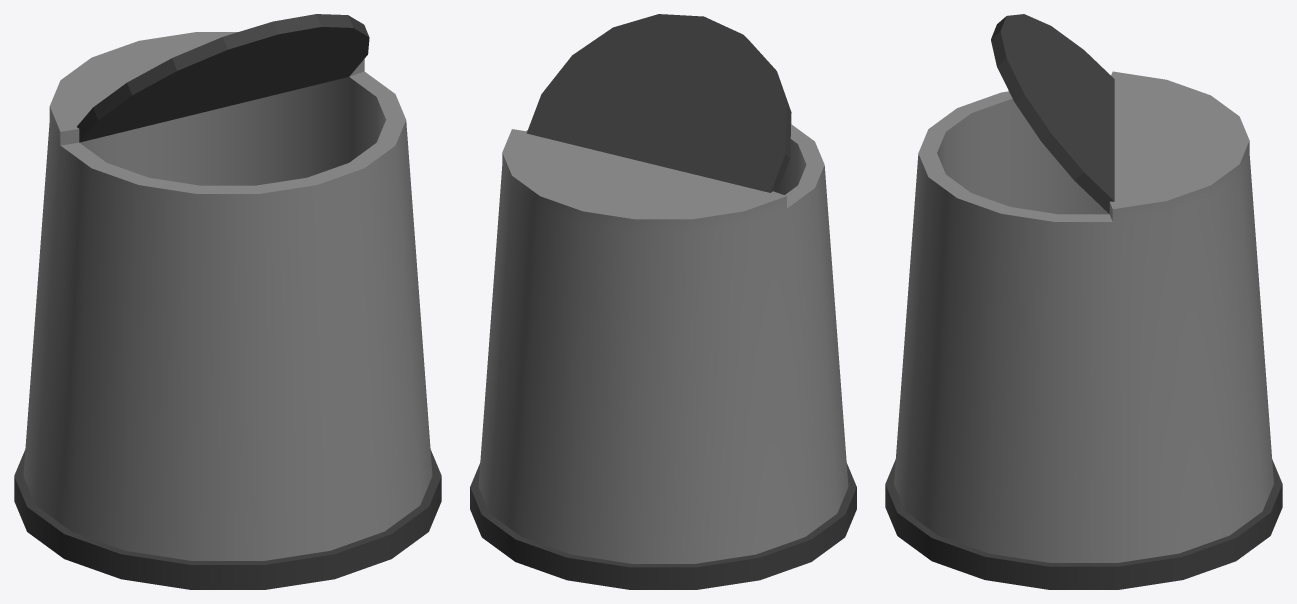
File: Dustbin.fbx
3 views of the same model, side by side, from view 1: azimuth 30°, elevation 25°; view 2: azimuth 150°, elevation 25°; view 3: azimuth 270°, elevation 25° (orthographic). The views are drawn at different scales.
Visible parts, largest first — view 1: Dustbin; view 2: Dustbin; view 3: Dustbin.
Part boxes in pixels (bbox=[...]): Dustbin: bbox=[14, 14, 441, 589]; Dustbin: bbox=[470, 14, 856, 589]; Dustbin: bbox=[885, 14, 1282, 589].
Bounding box in the file's own units: 70.12 × 94.11 × 71.2.
